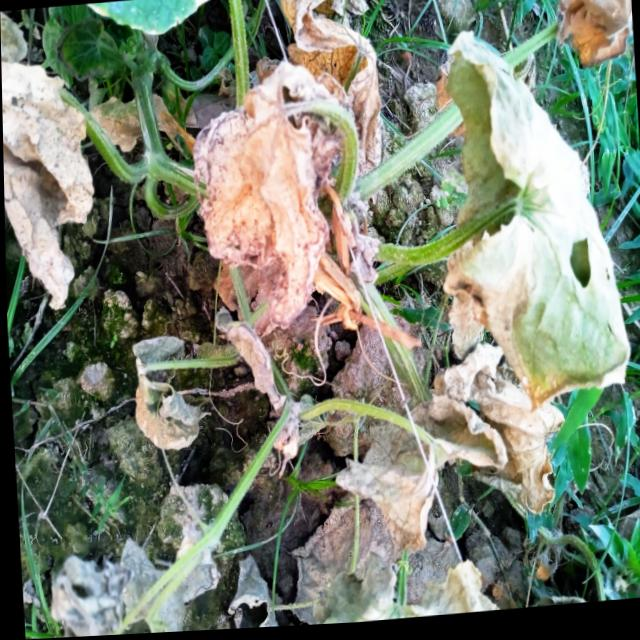Bacterial-Wilt: (438, 33, 631, 420), (191, 60, 354, 343), (330, 398, 506, 565), (128, 337, 210, 454), (555, 0, 632, 73)
